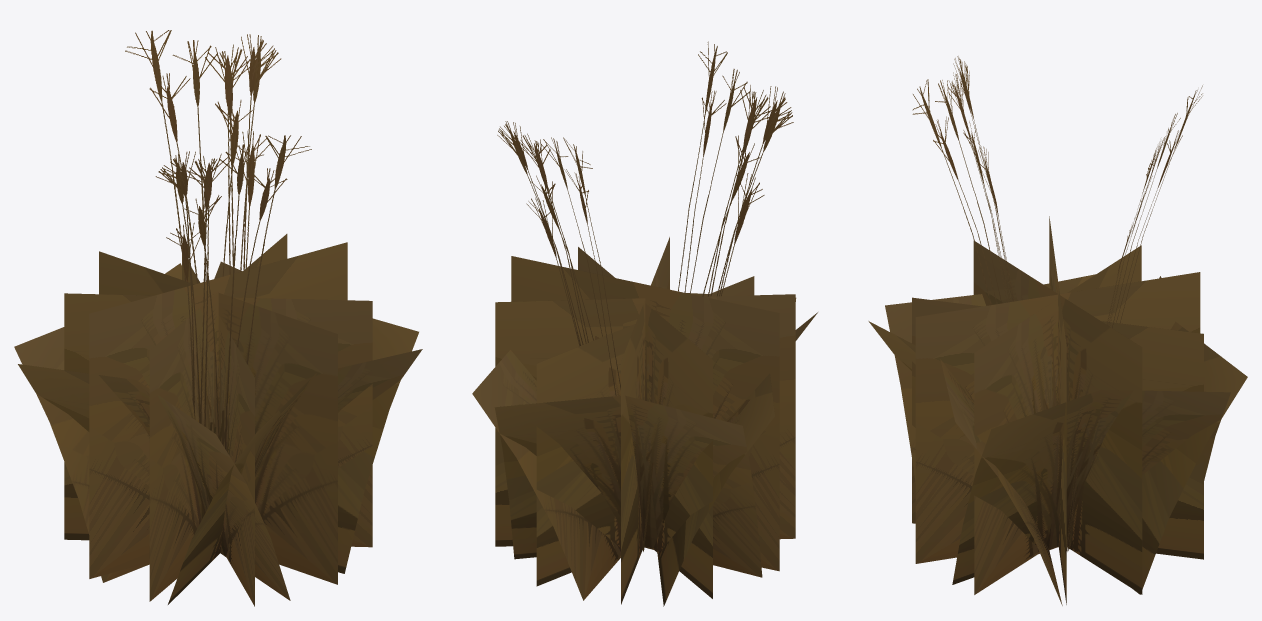
Rendered from grass_tuft.glb.
3 renders of one model, left to right at view 1: azimuth 30°, elevation 25°; view 2: azimuth 150°, elevation 25°; view 3: azimuth 270°, elevation 25°, orthographic. The views are drawn at different scales.
Visible parts, largest first — view 1: grass_tuft_grass_dry, grass_tuft_grass_stalks_dry; view 2: grass_tuft_grass_dry, grass_tuft_grass_stalks_dry; view 3: grass_tuft_grass_dry, grass_tuft_grass_stalks_dry.
Part boxes in pixels (x1=…): grass_tuft_grass_dry: x1=14, y1=234, x2=422, y2=606; grass_tuft_grass_stalks_dry: x1=125, y1=30, x2=311, y2=450; grass_tuft_grass_dry: x1=472, y1=237, x2=817, y2=606; grass_tuft_grass_stalks_dry: x1=497, y1=41, x2=793, y2=551; grass_tuft_grass_dry: x1=868, y1=216, x2=1247, y2=605; grass_tuft_grass_stalks_dry: x1=912, y1=56, x2=1202, y2=551.
Bounding box in the file's own units: 0.6865 × 0.9226 × 0.6865.
2 materials, 2 textured.
